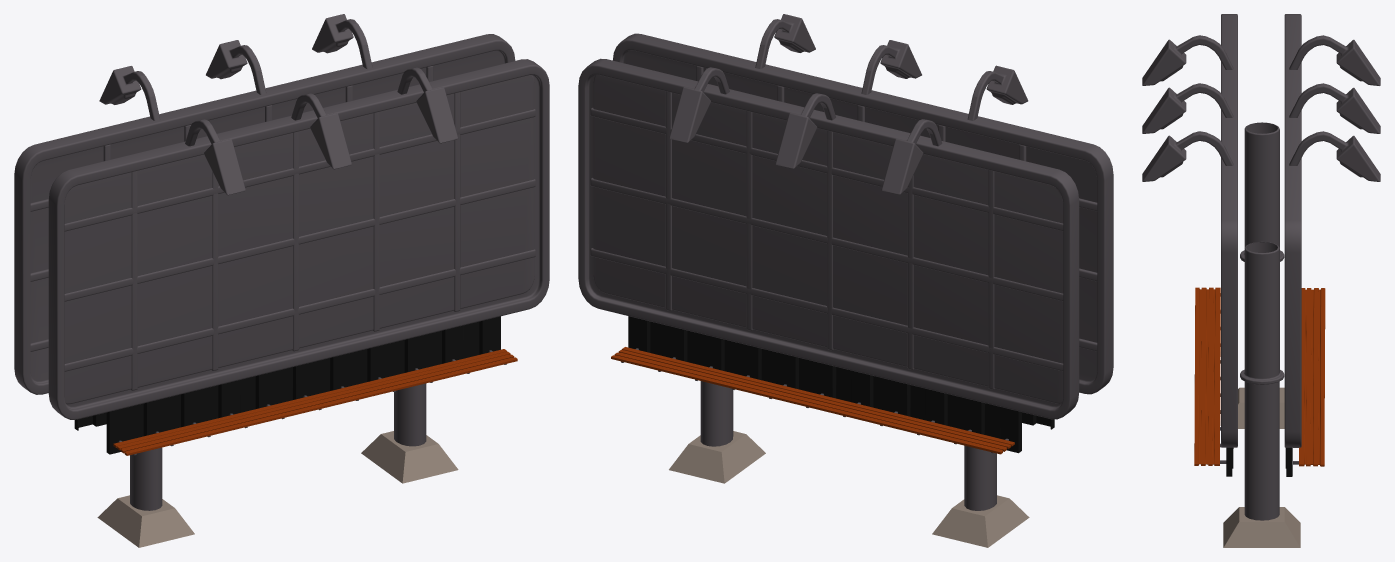
File: billboard3.glb
3 renders of one model, left to right at view 1: azimuth 30°, elevation 25°; view 2: azimuth 150°, elevation 25°; view 3: azimuth 270°, elevation 25°, orthographic. The views are drawn at different scales.
Visible parts, largest first — view 1: Bill_board_Cube.008_Cube.007, Cube; view 2: Bill_board_Cube.008_Cube.007, Cube; view 3: Bill_board_Cube.008_Cube.007, Cube.
Boxes of the visible parts, bbox=[...] form: Bill_board_Cube.008_Cube.007: bbox=[14, 14, 549, 510]; Cube: bbox=[97, 431, 458, 547]; Bill_board_Cube.008_Cube.007: bbox=[578, 14, 1113, 510]; Cube: bbox=[669, 431, 1029, 547]; Bill_board_Cube.008_Cube.007: bbox=[1142, 14, 1380, 520]; Cube: bbox=[1223, 387, 1300, 547].
Size of the model in its own units: 17.5 by 14.35 by 7.91.
